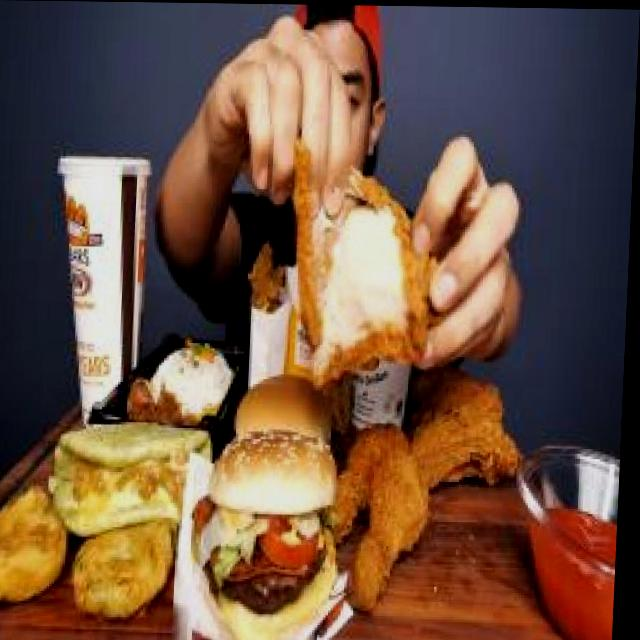AW cola: (51, 141, 163, 402)
black pepper rice bowl: (117, 337, 246, 448)
cheese burger: (229, 351, 348, 465)
fried chicken: (338, 359, 523, 636), (285, 111, 447, 383)
mango chicken pocket: (51, 406, 224, 541)
mozza burger: (195, 425, 350, 640)
perkedel: (70, 506, 182, 630), (0, 470, 79, 621)
